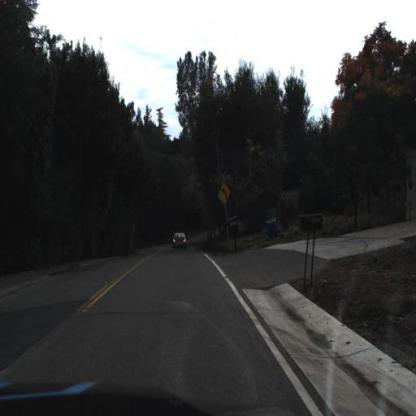car: (166, 230, 194, 257)
